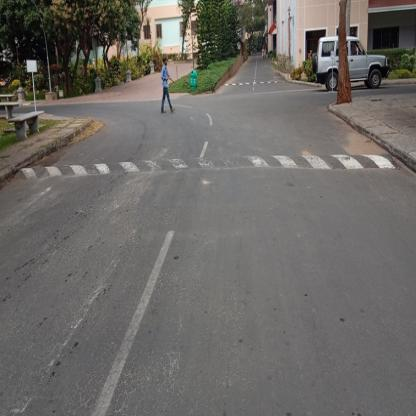speed-bumps: (13, 143, 394, 195), (222, 76, 288, 94)
